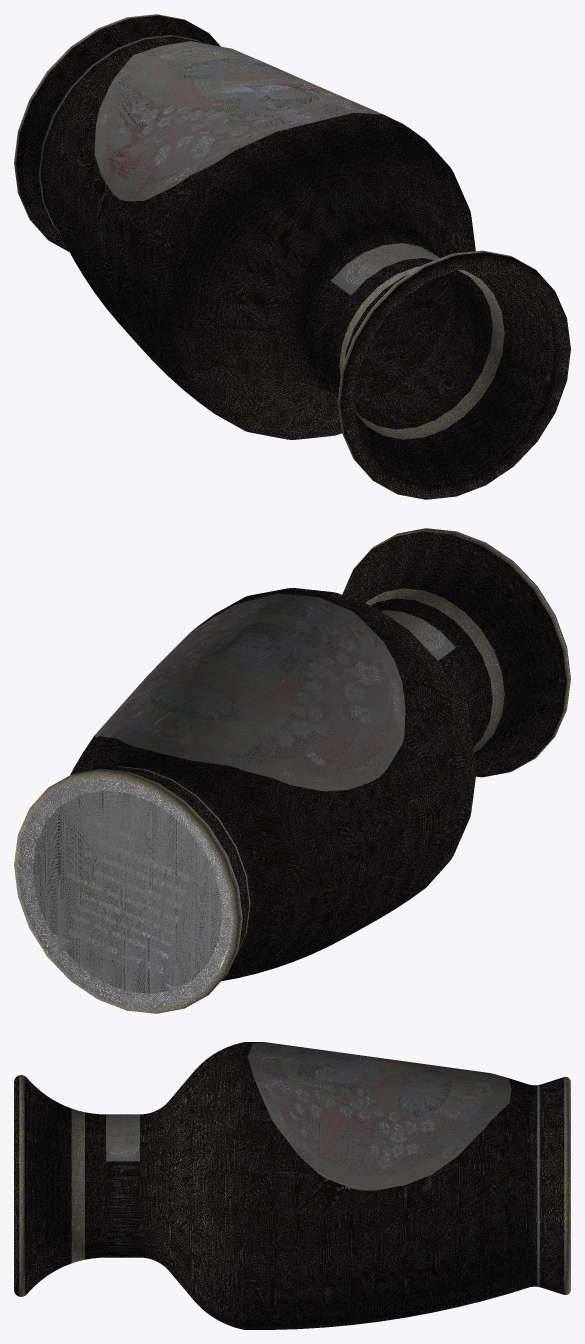
File: model_scale.obj
3 views of the same model, one above another, from view 1: azimuth 30°, elevation 25°; view 2: azimuth 150°, elevation 25°; view 3: azimuth 270°, elevation 25° (orthographic). The views are drawn at different scales.
Visible parts, largest first — view 1: mesh1_mesh1-geometry; view 2: mesh1_mesh1-geometry; view 3: mesh1_mesh1-geometry.
Boxes of the visible parts, bbox=[...] form: mesh1_mesh1-geometry: bbox=[14, 14, 570, 499]; mesh1_mesh1-geometry: bbox=[14, 528, 570, 1013]; mesh1_mesh1-geometry: bbox=[14, 1042, 570, 1329].
Size of the model in its own units: 0.0636 by 0.0634 by 0.1225.
Materials: 10 (6 with a texture image).
